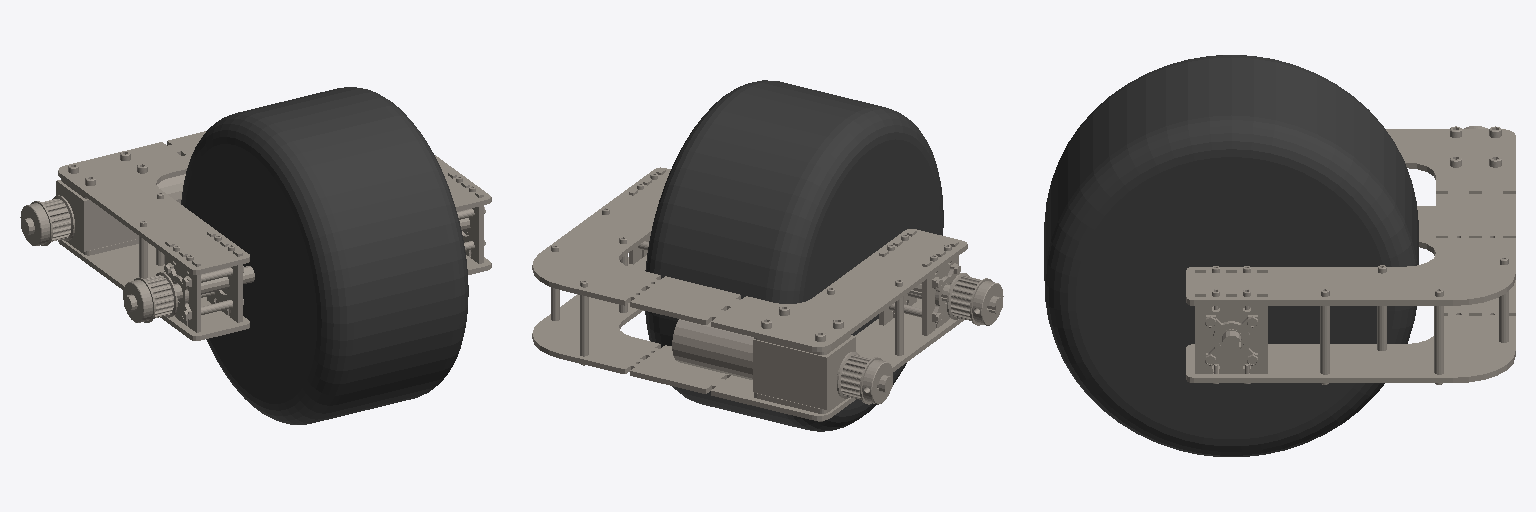
robot.urdf — WideWheelHub:
<robot
  name="WideWheelHub">
  <link
    name="WideWheelBase">
    <inertial>
      <origin
        xyz="-0.084771498636078 0.000312824556319043 -0.0952425383965569"
        rpy="0 0 0" />
      <mass
        value="2.724043620833" />
      <inertia
        ixx="0.0126793168668858"
        ixy="2.12381505290177E-07"
        ixz="0.0039144572403501"
        iyy="0.0275171136150495"
        iyz="3.25414052790912E-07"
        izz="0.0162796426958027" />
    </inertial>
    <visual>
      <origin
        xyz="0 0 0"
        rpy="0 0 0" />
      <geometry>
        <mesh
          filename="package://WideWheelHub/meshes/WideWheelBase.STL" />
      </geometry>
      <material
        name="">
        <color
          rgba="0.647058823529412 0.619607843137255 0.588235294117647 1" />
      </material>
    </visual>
    <collision>
      <origin
        xyz="0 0 0"
        rpy="0 0 0" />
      <geometry>
        <mesh
          filename="package://WideWheelHub/meshes/WideWheelBase.STL" />
      </geometry>
    </collision>
  </link>
  <link
    name="Wheel">
    <inertial>
      <origin
        xyz="-0.0640000000000001 -2.98155597433514E-18 0"
        rpy="0 0 0" />
      <mass
        value="1.86318344508723" />
      <inertia
        ixx="0.0179963942930543"
        ixy="-2.15672374578627E-18"
        ixz="1.63515966176784E-34"
        iyy="0.0131272204160217"
        iyz="-1.94143329058776E-34"
        izz="0.0131272204160217" />
    </inertial>
    <visual>
      <origin
        xyz="0 0 0"
        rpy="0 0 0" />
      <geometry>
        <mesh
          filename="package://WideWheelHub/meshes/Wheel.STL" />
      </geometry>
      <material
        name="">
        <color
          rgba="0.294117647058824 0.294117647058824 0.294117647058824 1" />
      </material>
    </visual>
    <collision>
      <origin
        xyz="0 0 0"
        rpy="0 0 0" />
      <geometry>
        <mesh
          filename="package://WideWheelHub/meshes/Wheel.STL" />
      </geometry>
    </collision>
  </link>
  <joint
    name="Axle"
    type="fixed">
    <origin
      xyz="0.0254710786476053 -0.0201166854458847 0.000315728425903225"
      rpy="1.5707963267949 0 0" />
    <parent
      link="WideWheelBase" />
    <child
      link="Wheel" />
    <axis
      xyz="0 0 0" />
  </joint>
</robot>

--- Render facts (derived) ---
The picture shows the robot from 3 angles, left to right: view 1: azimuth 30°, elevation 25°; view 2: azimuth 150°, elevation 25°; view 3: azimuth 270°, elevation 25°; orthographic projection.
Robot: WideWheelHub — 2 links, 1 joints (1 fixed); root link WideWheelBase; default pose: every joint at zero.
Visible links, largest first — view 1: Wheel, WideWheelBase; view 2: WideWheelBase, Wheel; view 3: Wheel, WideWheelBase.
Boxes of the visible links, x1,y1,x2,y2 form: Wheel: (181,87,468,424); WideWheelBase: (20,131,491,340); WideWheelBase: (532,167,1003,421); Wheel: (645,80,943,431); Wheel: (1044,55,1418,456); WideWheelBase: (1186,126,1515,384).
Size in the robot's own frame: 0.3048 by 0.3019 by 0.2398 metres.
2 mesh visuals loaded from 2 distinct referenced files (2 binary STL).